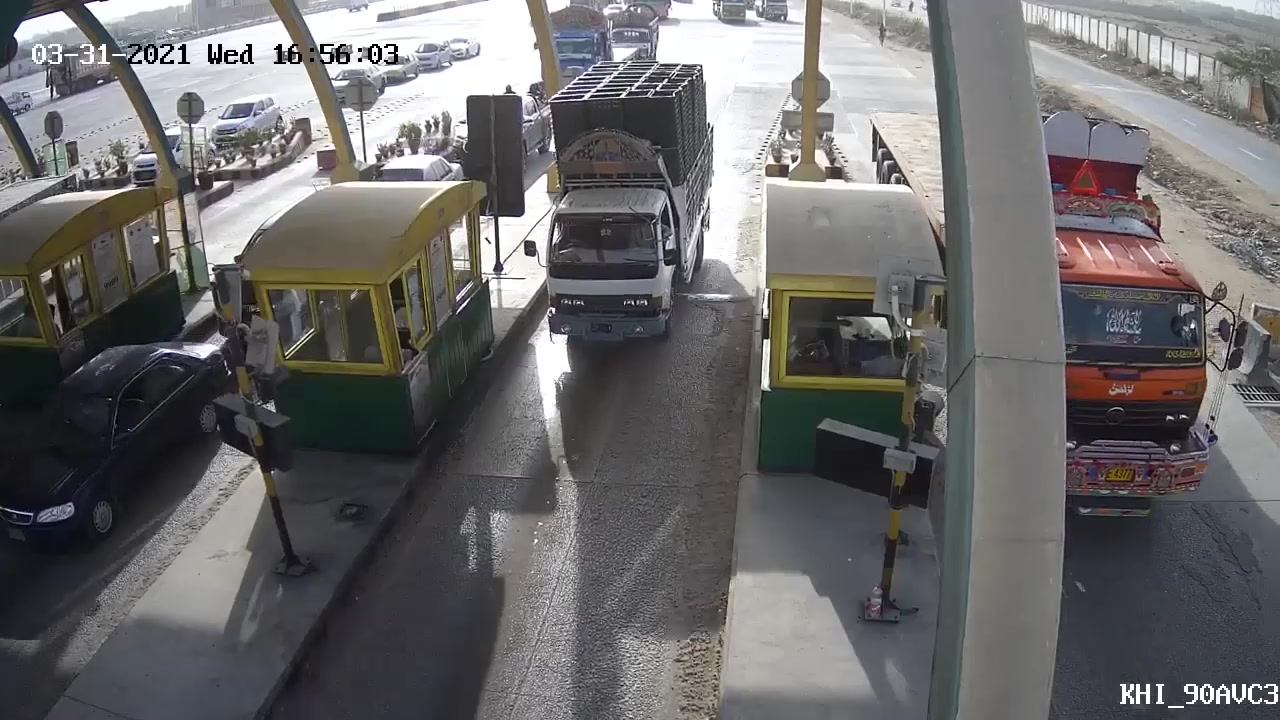F5: (521, 58, 719, 355)
